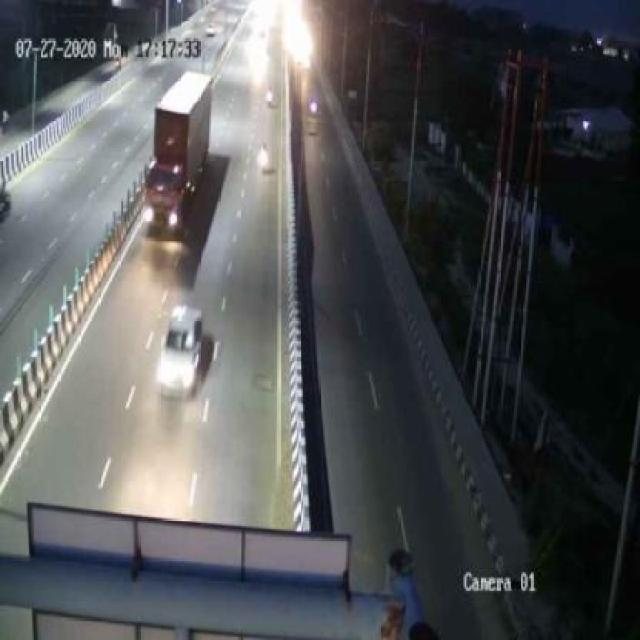car: (152, 303, 211, 397)
